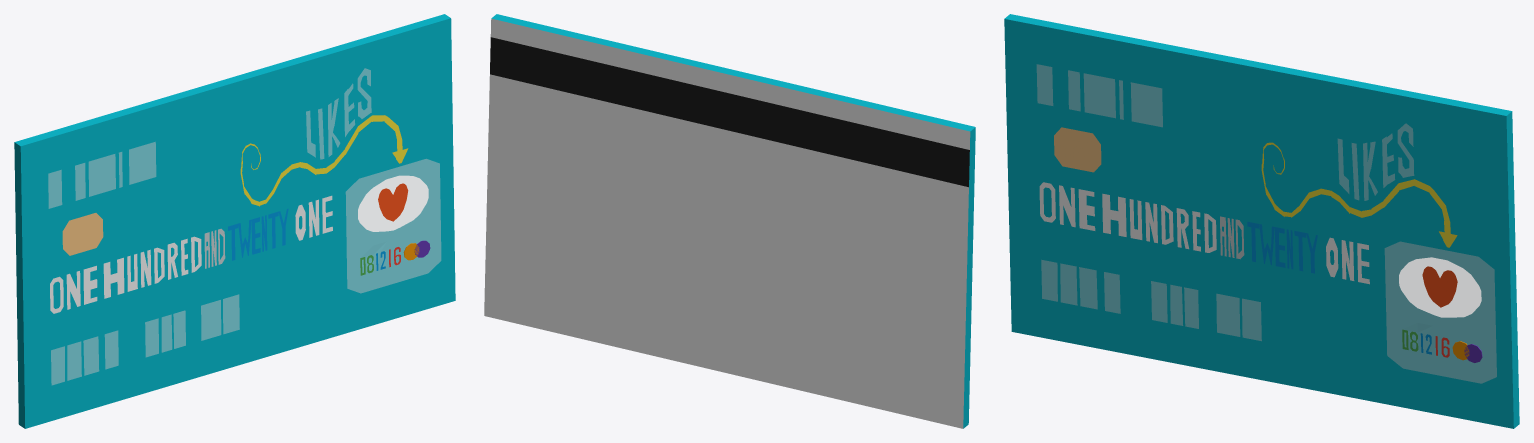
Rendered from TIME HOTEL 2.11.glb.
3 renders of one model, left to right at view 1: azimuth 30°, elevation 25°; view 2: azimuth 150°, elevation 25°; view 3: azimuth 330°, elevation 25°, orthographic. The views are drawn at different scales.
Visible parts, largest first — view 1: group306452918; view 2: group306452918; view 3: group306452918.
Boxes of the visible parts, x1,y1,x2,y2 form: group306452918: (14,14,455,428); group306452918: (484,14,975,428); group306452918: (1004,14,1519,428).
Bounding box in the file's own units: 3.57 × 2.23 × 0.2845.
